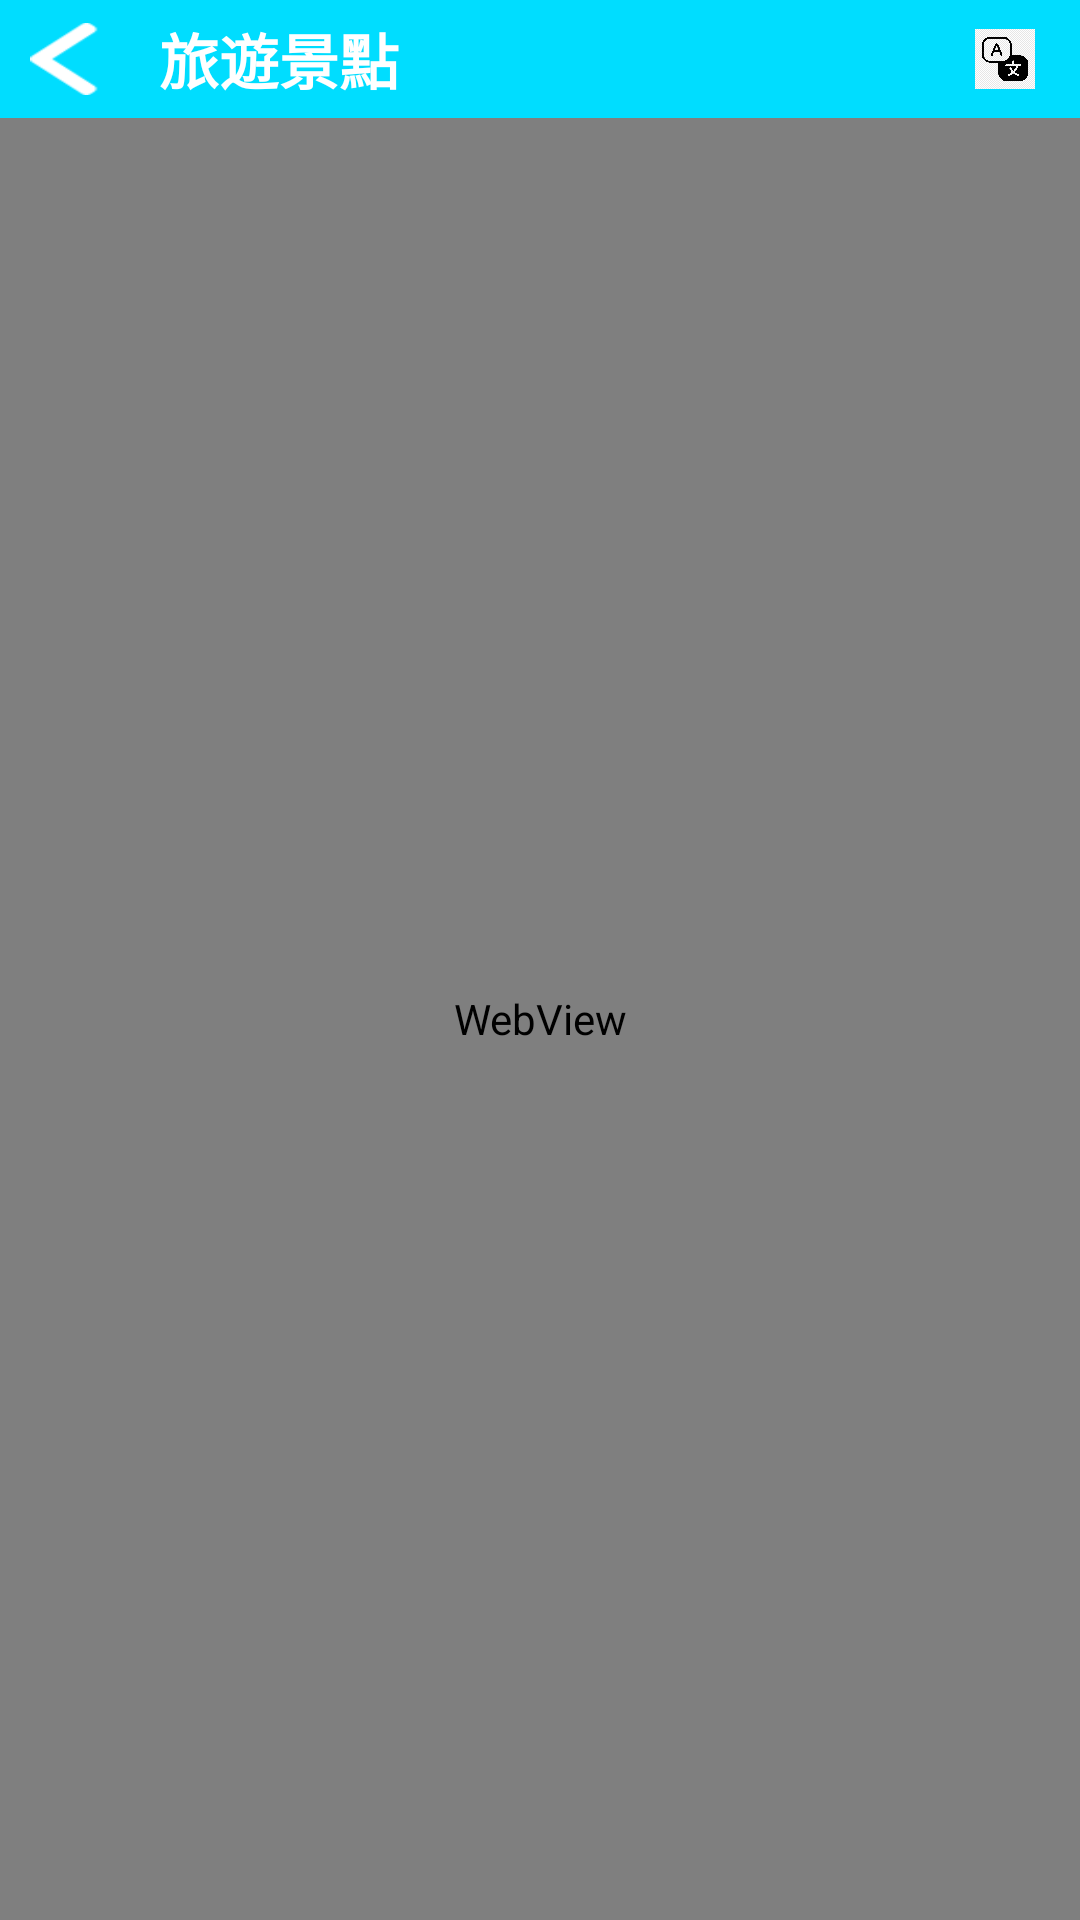

Screen size 1080w x 1920h. Icon name, then its box in pixels as Rect(x1, y1, x2, y2):
back: Rect(30, 23, 98, 95)
lang: Rect(975, 29, 1035, 89)
